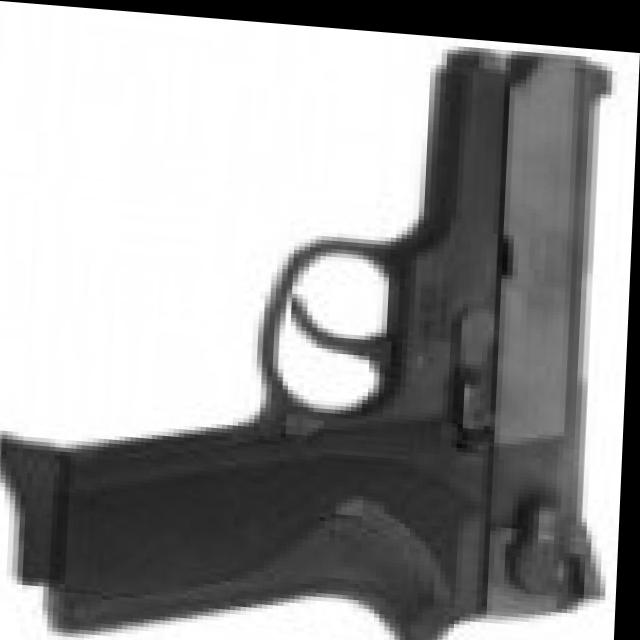handgun: (0, 13, 634, 640)
